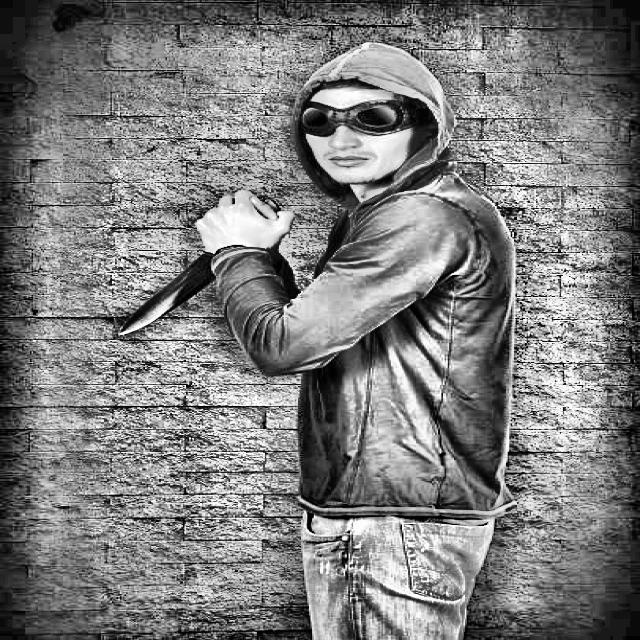pisau: (103, 173, 316, 352)
